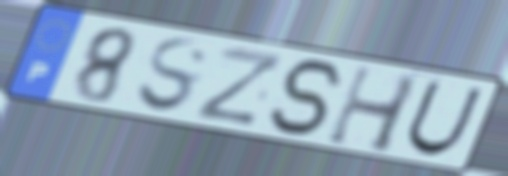8: (68, 26, 139, 104)
H: (322, 61, 425, 157)
S: (267, 57, 350, 139), (133, 35, 213, 116)
U: (402, 78, 487, 158)
Z: (190, 43, 288, 129)
